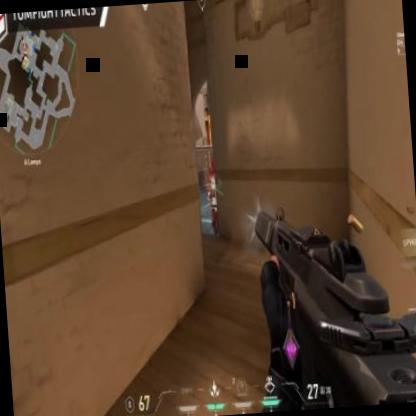enemy: (206, 176, 226, 238)
enemy_head: (210, 178, 220, 192)
